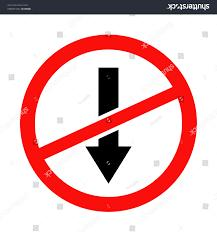Straight Prohibitor No Entry: (12, 31, 201, 217)
